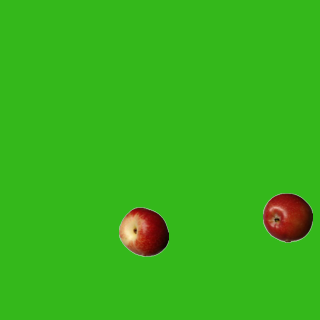Apple Braeburn: (262, 192, 312, 242)
Nectarine: (118, 206, 168, 256)
